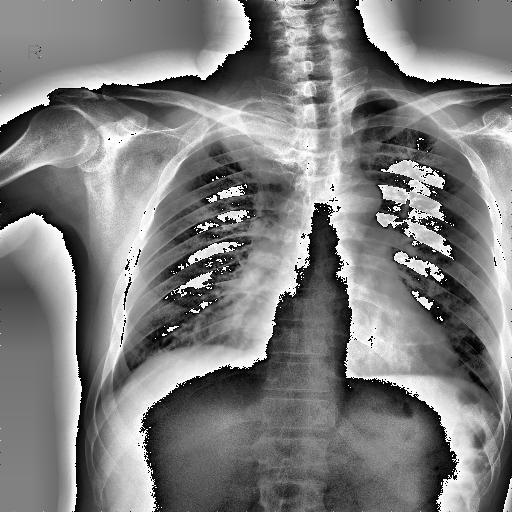1- Atelectasis: (212, 104, 300, 184)
4- Consolidation: (220, 102, 296, 180)
7- Lung Opacity: (212, 104, 300, 184)
8- Nodule-Mass: (216, 106, 310, 188), (212, 104, 300, 184), (220, 102, 296, 180)
